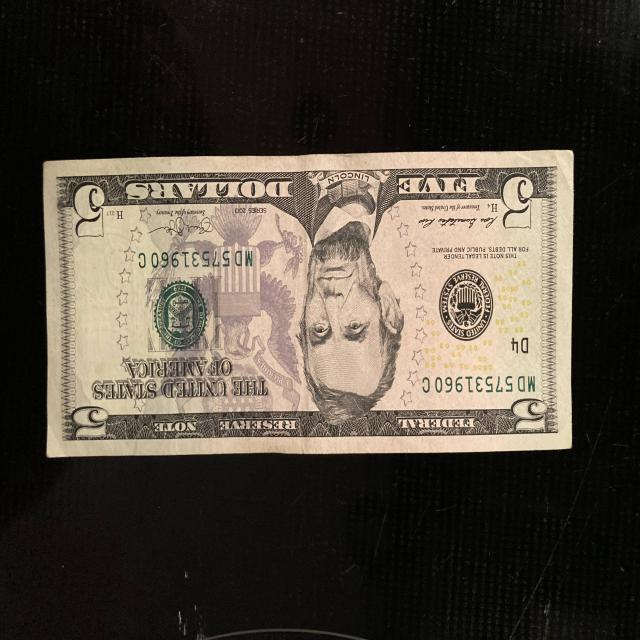five: (42, 146, 578, 459)
